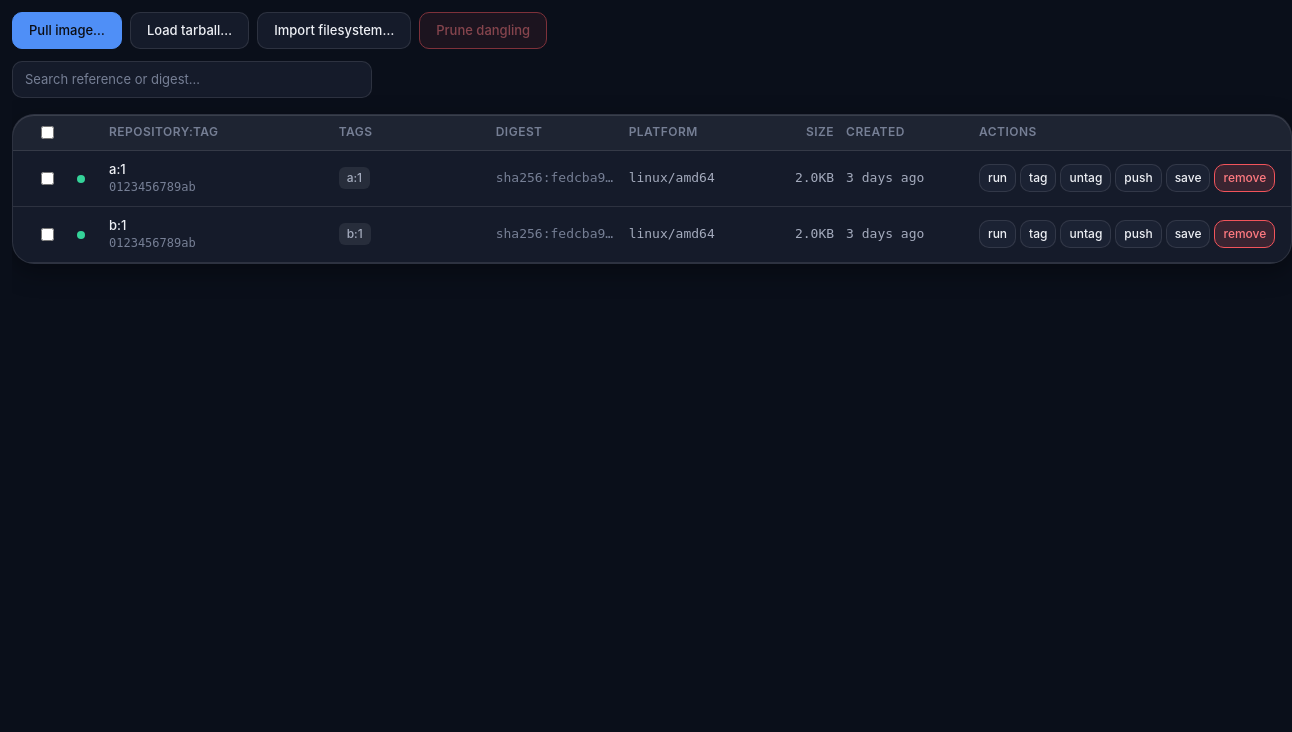
Test case: ImagesScreen — save to tarball (plan-docker_management_app/REQ-42) › downloads a combined tarball for every selected image via the bulk action, then clears the selection
Click the 1st checkbox named "Select row" at (48, 178), box [41,172,54,185]
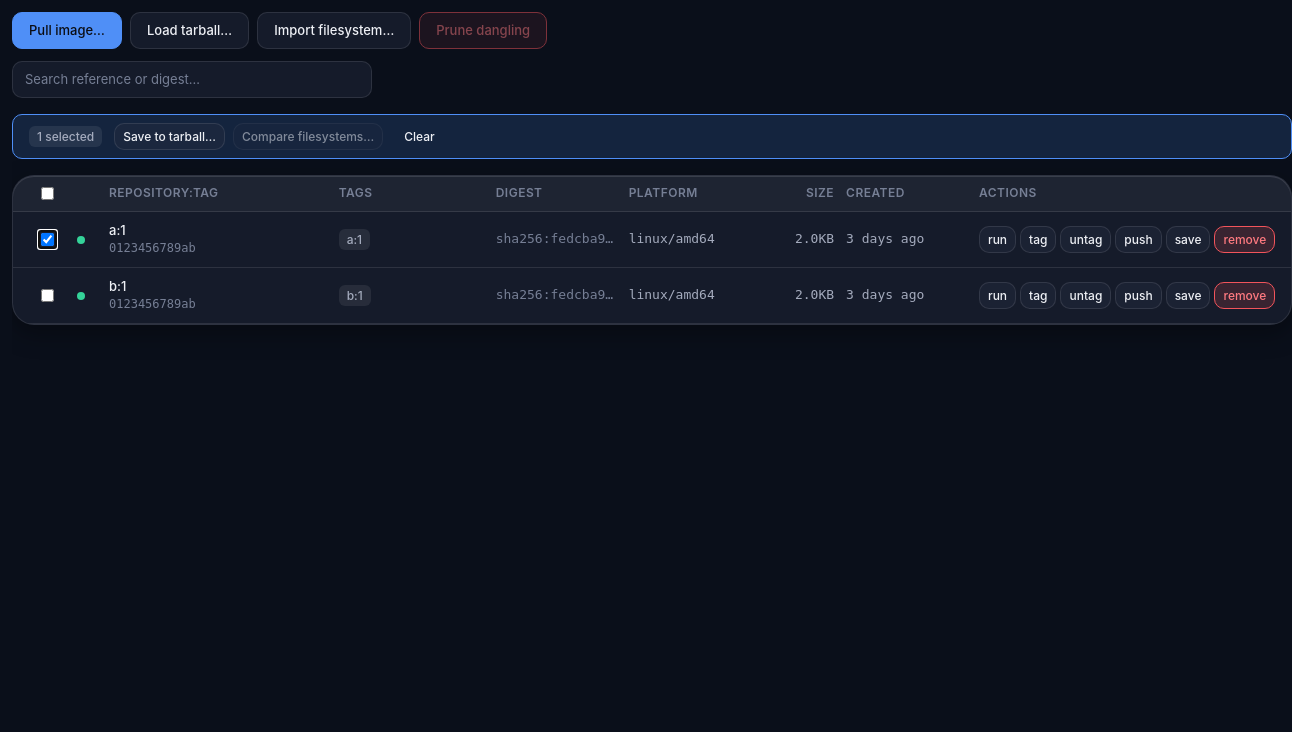
Click the 2nd checkbox named "Select row" at (48, 296), box [41,289,54,302]
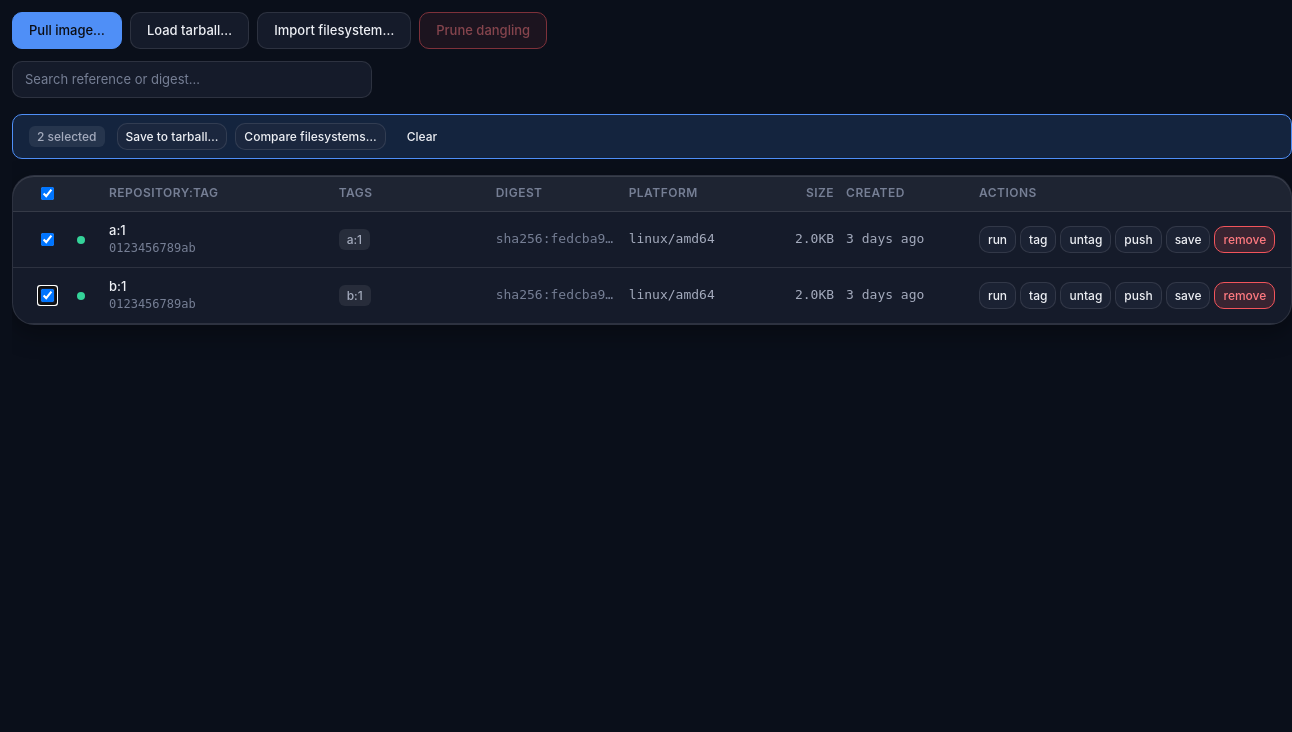
Click the button "Save to tarball…" at (172, 136), box [116,123,227,150]
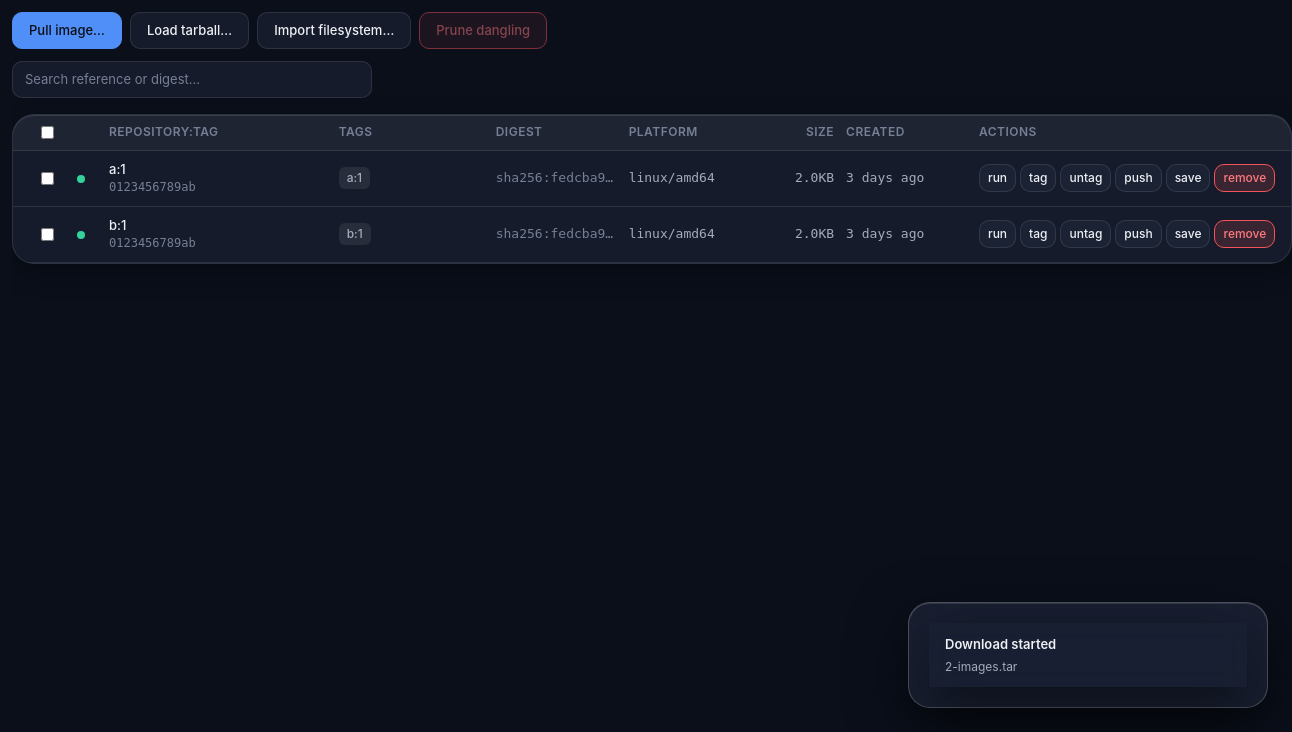
Now the button "Save to tarball…" is gone
